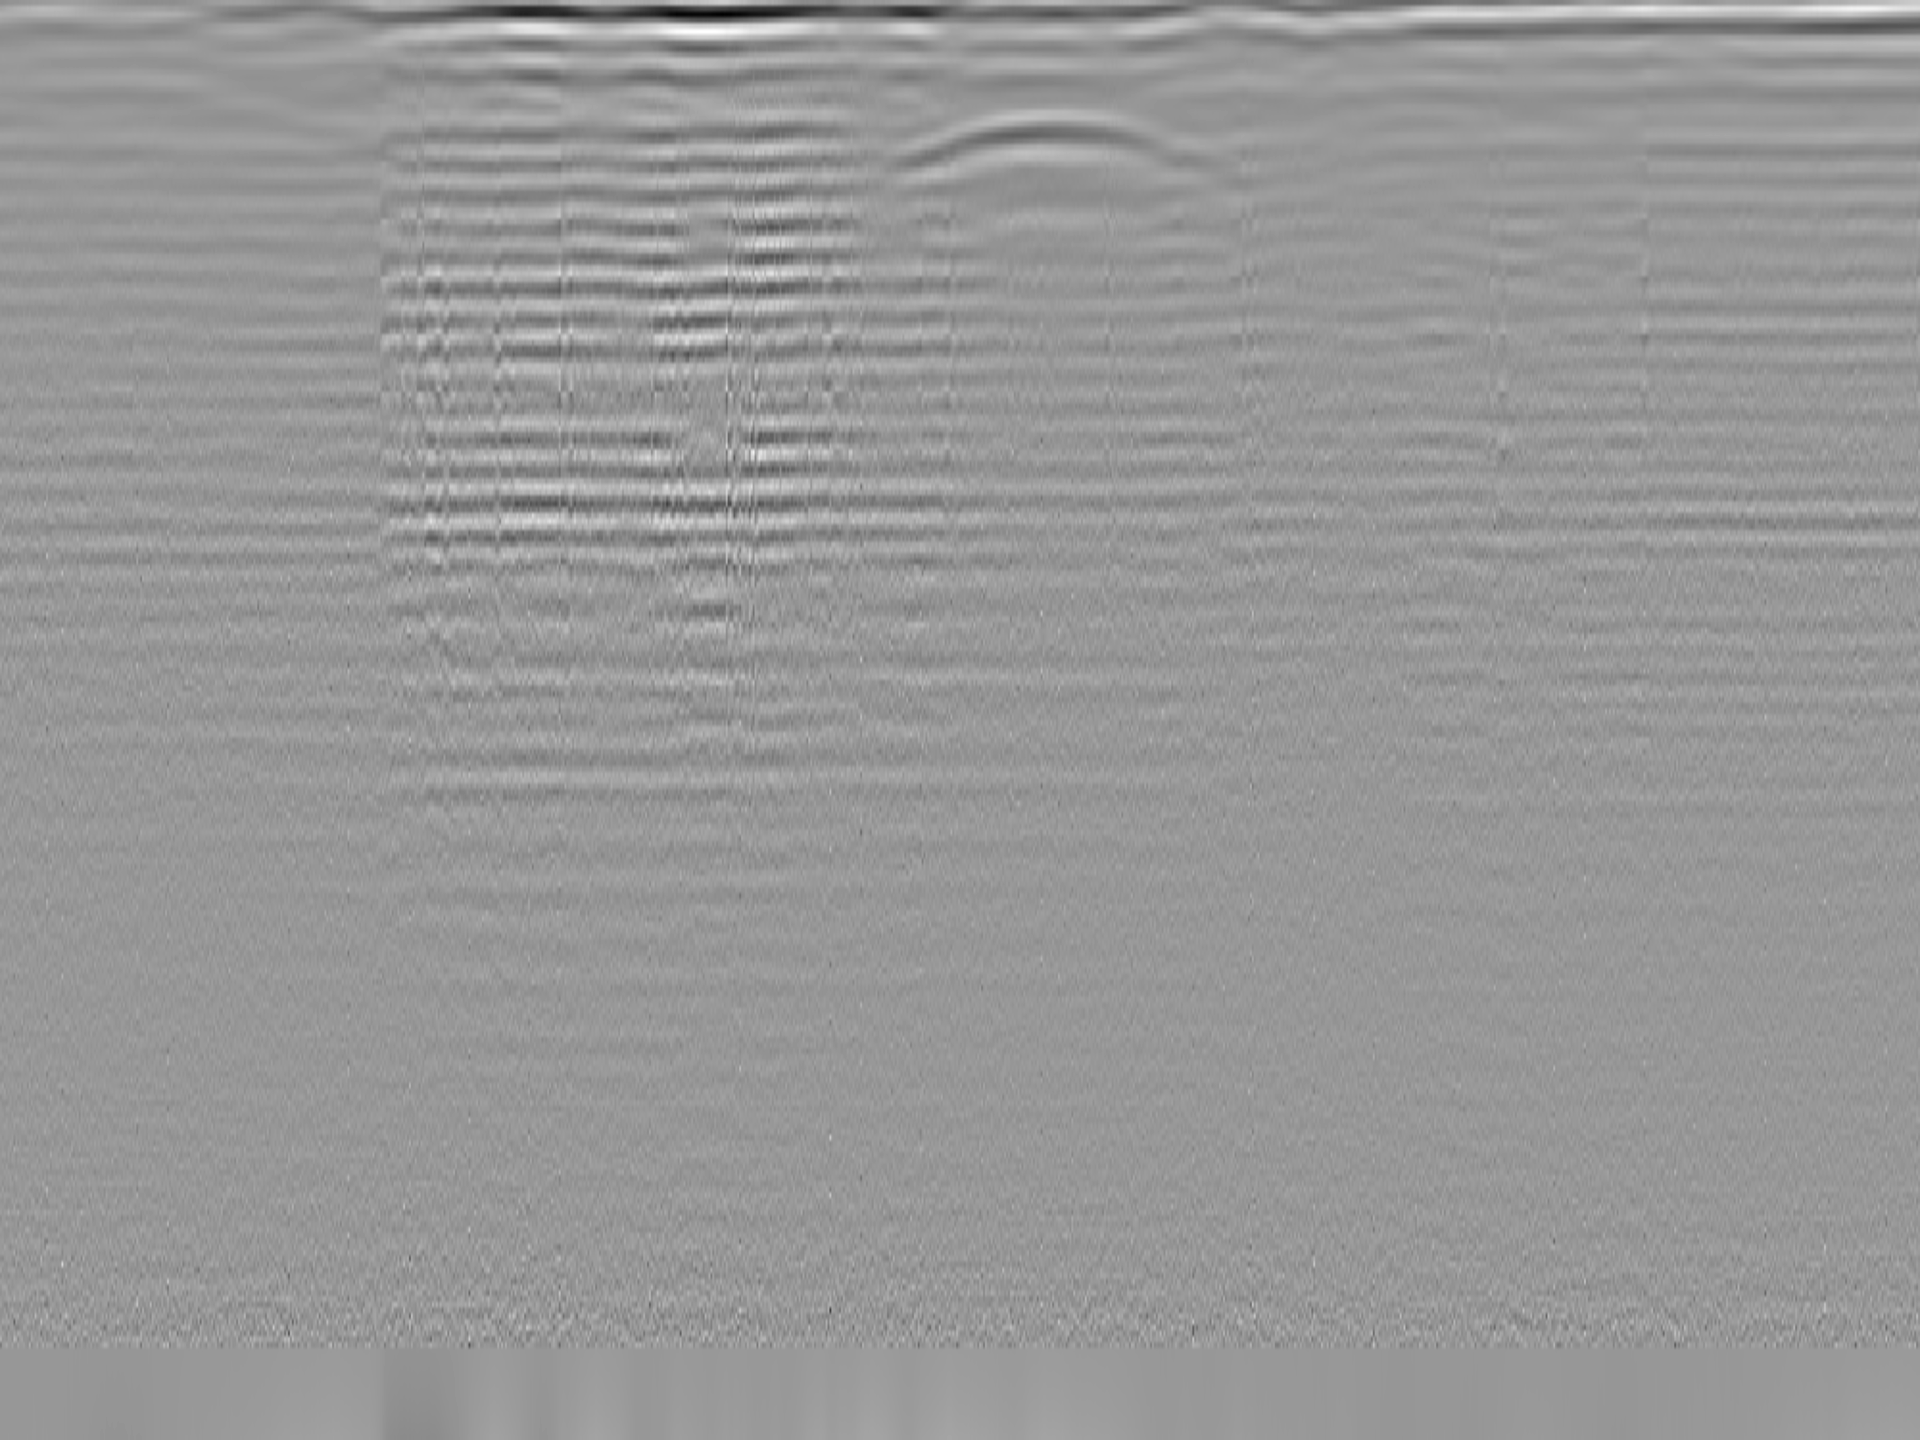Tunnel: (883, 106, 1246, 182)
